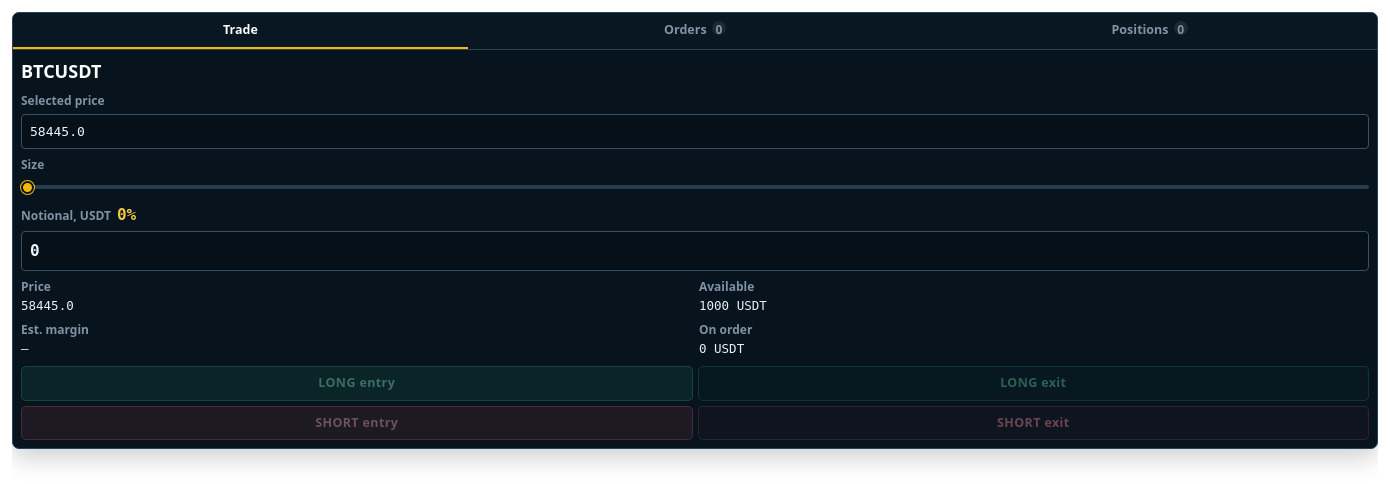
it: FuturesTradingTicket › keeps the ready order controls without routine status or redundant chrome
Set the slider named "Order size percent" to "25" at (362, 187), box [21,178,1369,196]
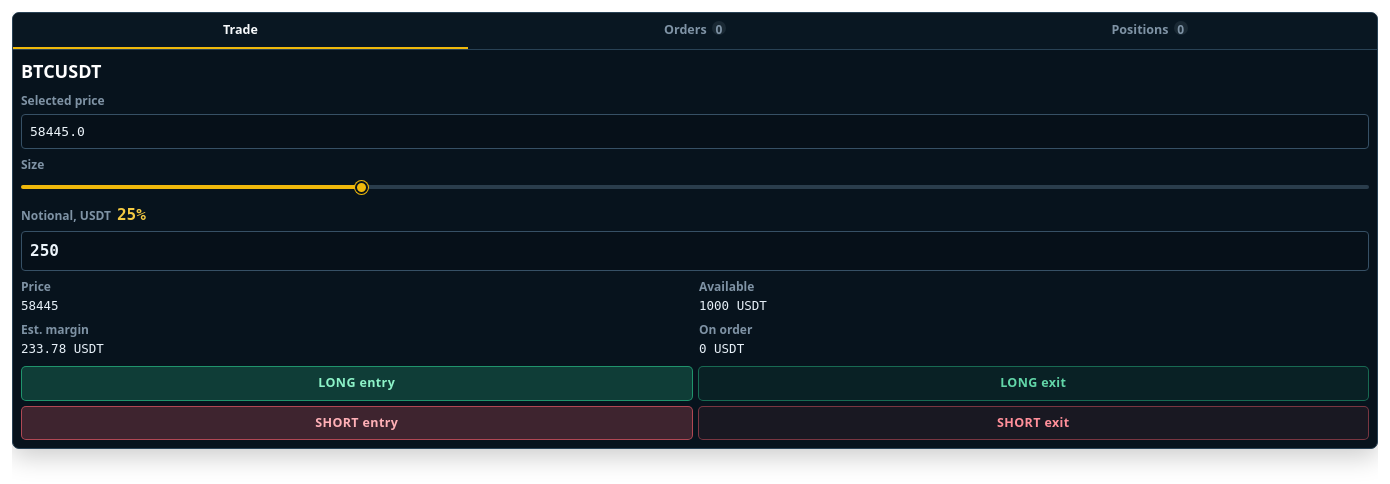
Expected: the button "LONG entry" is enabled, [21,366,692,401]
